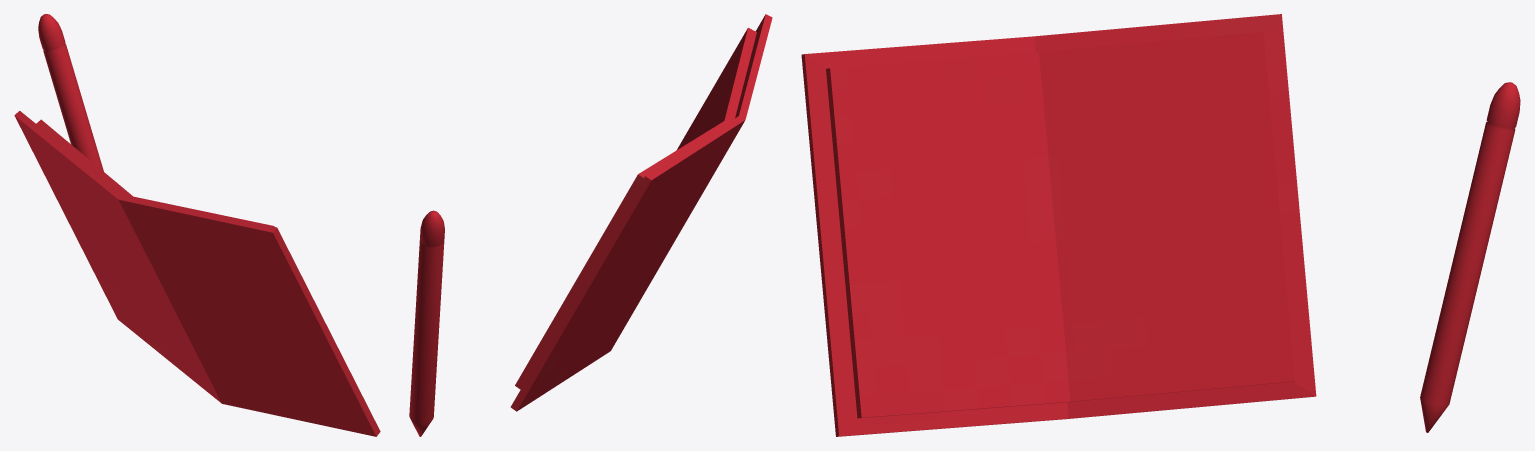
The model's file is 4_goal.glb.
3 renders of one model, left to right at view 1: azimuth 30°, elevation 25°; view 2: azimuth 150°, elevation 25°; view 3: azimuth 270°, elevation 25°, orthographic. The views are drawn at different scales.
Parts seen in each view (by area): view 1: Cube, Cylinder; view 2: Cube, Cylinder; view 3: Cube, Cylinder.
Part boxes in pixels (x1,y1,x2,y2): Cube: (14, 111, 380, 436); Cylinder: (38, 14, 103, 171); Cube: (510, 14, 772, 411); Cylinder: (409, 210, 444, 436); Cube: (801, 14, 1316, 436); Cylinder: (1420, 82, 1520, 432).
Size of the model in its own units: 1.48 by 1.93 by 3.74.
1 material, 1 textured.
